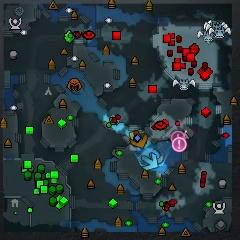Other: (171, 138, 187, 152), (171, 131, 187, 140)
x2: (130, 130, 145, 140)
x3: (141, 154, 158, 170)
x5: (131, 130, 147, 148)
